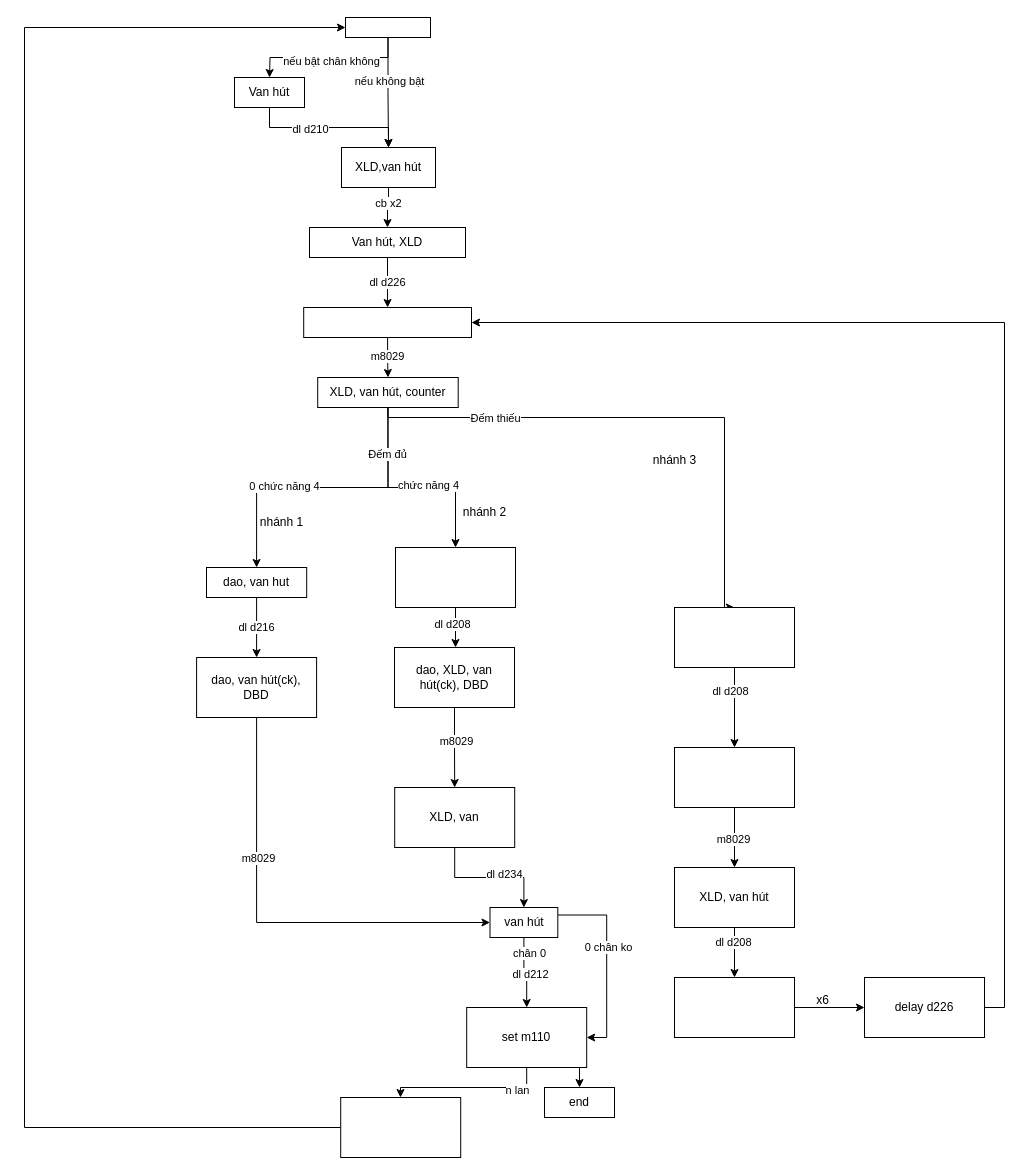
This 1030x1175 diagram has some shape labels left out. The shapes that lost their labels are listed below. From the top down, each one's box as (x1, y1, x2, y2) in pixels, then its label:
(344, 16, 430, 38): Chờ in
(303, 306, 472, 338): XLD, van hút(ck), XL hở, chạy tới ĐKT
(394, 546, 516, 608): dao, XLD, van hút
(674, 606, 794, 668): dao, XLD, van hút,XLN,
(674, 746, 794, 808): dao, XLD, van hút, XLN, DBD
(674, 976, 794, 1038): XLD van hút,
(340, 1096, 461, 1158): delay t16 với d218
